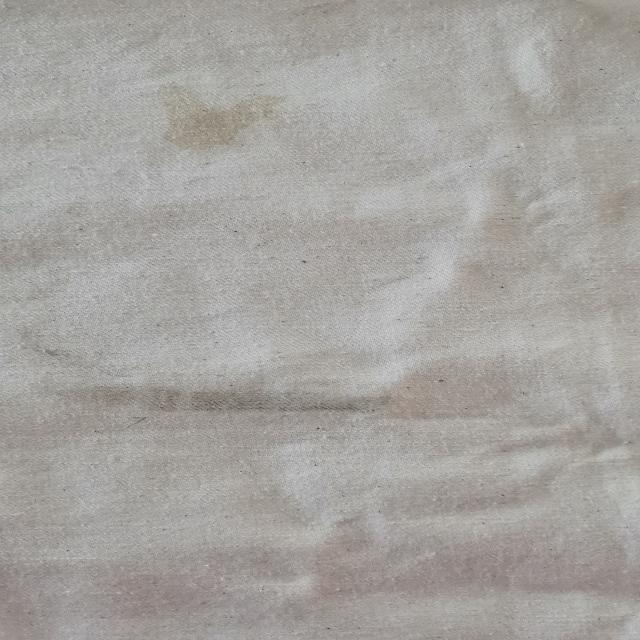taaaches: (51, 370, 452, 432), (144, 78, 304, 166)
